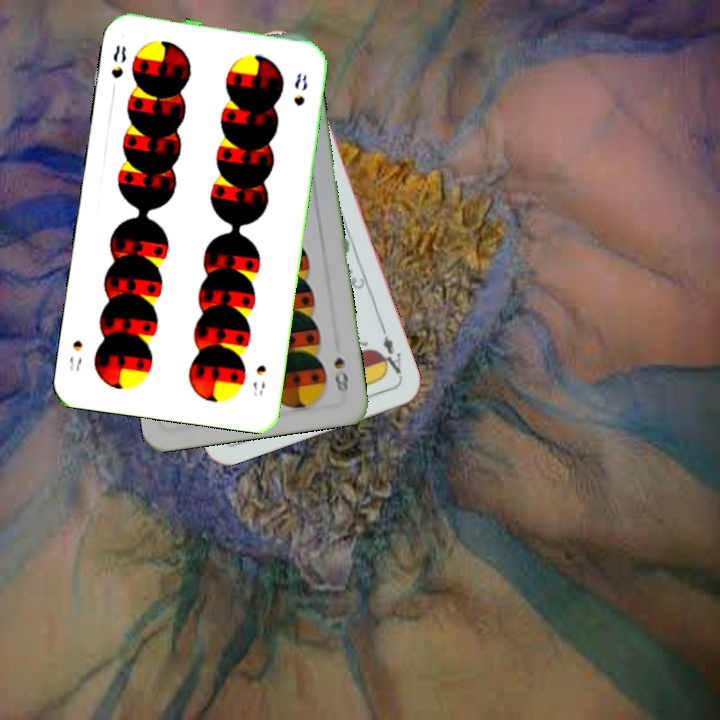EA: (374, 322, 404, 377)
S8: (330, 352, 351, 394), (107, 41, 129, 81), (248, 360, 269, 399)
